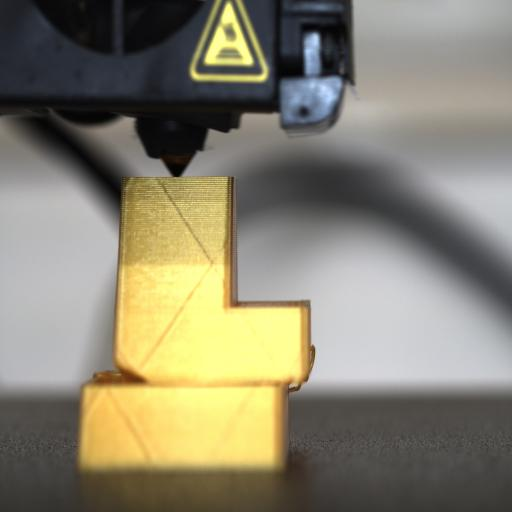layer_shift: (77, 371, 311, 392)
